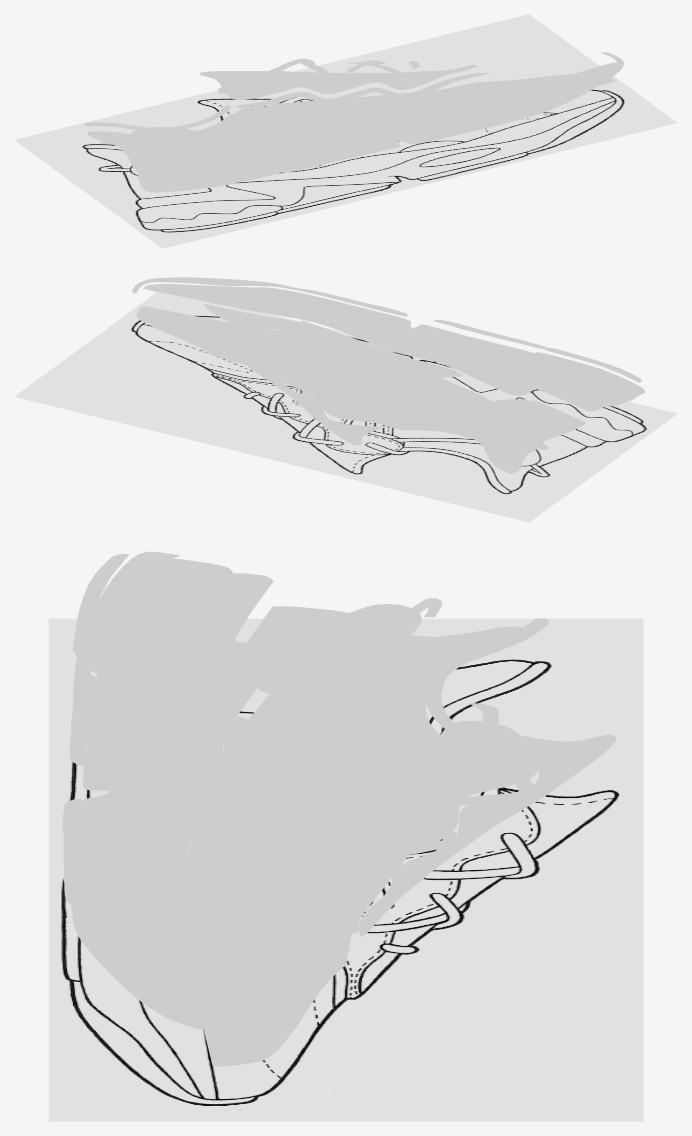
The model's file is adidasOzweego.FBX.
3 renders of one model, top to bottom at view 1: azimuth 30°, elevation 25°; view 2: azimuth 150°, elevation 25°; view 3: azimuth 270°, elevation 25°, orthographic. The views are drawn at different scales.
Parts seen in each view (by area): view 1: Plane001, Line028, Line011, Line016, Line001, Line015, Line027, Line010, Line009, Line013, Line022, Line014 (+7 smaller); view 2: Plane001, Line028, Line011, Line001, Line016, Line014, Line010, Line027, Line022, Line002, Line013, Line009 (+6 smaller); view 3: Plane001, Line028, Line011, Line016, Line001, Line014, Line010, Line027, Line022, Line009, Line002, Line013 (+11 smaller).
Part boxes in pixels (x1,y1,x2,y2): Plane001: [14, 14, 677, 248]; Line028: [137, 62, 615, 186]; Line011: [87, 74, 614, 154]; Line016: [225, 65, 477, 99]; Line001: [296, 79, 549, 135]; Line015: [236, 72, 491, 108]; Line027: [418, 52, 623, 141]; Line010: [124, 144, 211, 173]; Line009: [131, 127, 201, 144]; Line013: [218, 58, 419, 94]; Line022: [141, 168, 282, 192]; Line014: [199, 69, 468, 94]; Plane001: [14, 292, 677, 522]; Line028: [143, 284, 636, 411]; Line011: [136, 306, 543, 473]; Line001: [203, 304, 453, 373]; Line016: [212, 340, 402, 421]; Line014: [215, 349, 388, 445]; Line010: [482, 399, 586, 441]; Line027: [132, 277, 407, 316]; Line022: [532, 352, 644, 397]; Line002: [301, 320, 463, 378]; Line013: [244, 354, 408, 417]; Line009: [489, 403, 540, 431]; Plane001: [48, 618, 643, 1121]; Line028: [78, 559, 282, 1029]; Line011: [185, 626, 522, 1066]; Line016: [323, 720, 538, 933]; Line001: [183, 726, 289, 977]; Line014: [359, 734, 616, 936]; Line010: [247, 606, 366, 699]; Line027: [62, 799, 255, 1028]; Line022: [89, 551, 179, 672]; Line009: [314, 604, 421, 658]; Line002: [183, 716, 310, 881]; Line013: [361, 703, 536, 879].
Size of the model in its own units: 252 by 19.45 by 126.
